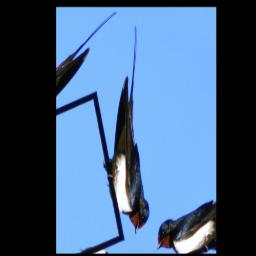Swallow: (69, 23, 207, 240)
